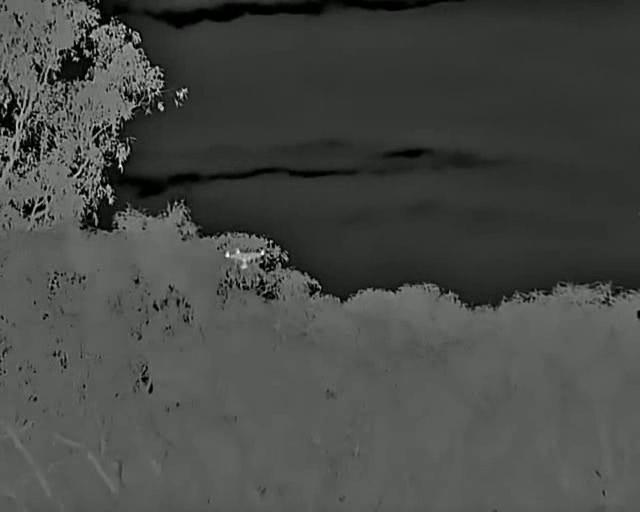DJI-Phantom: (225, 248, 269, 273)
